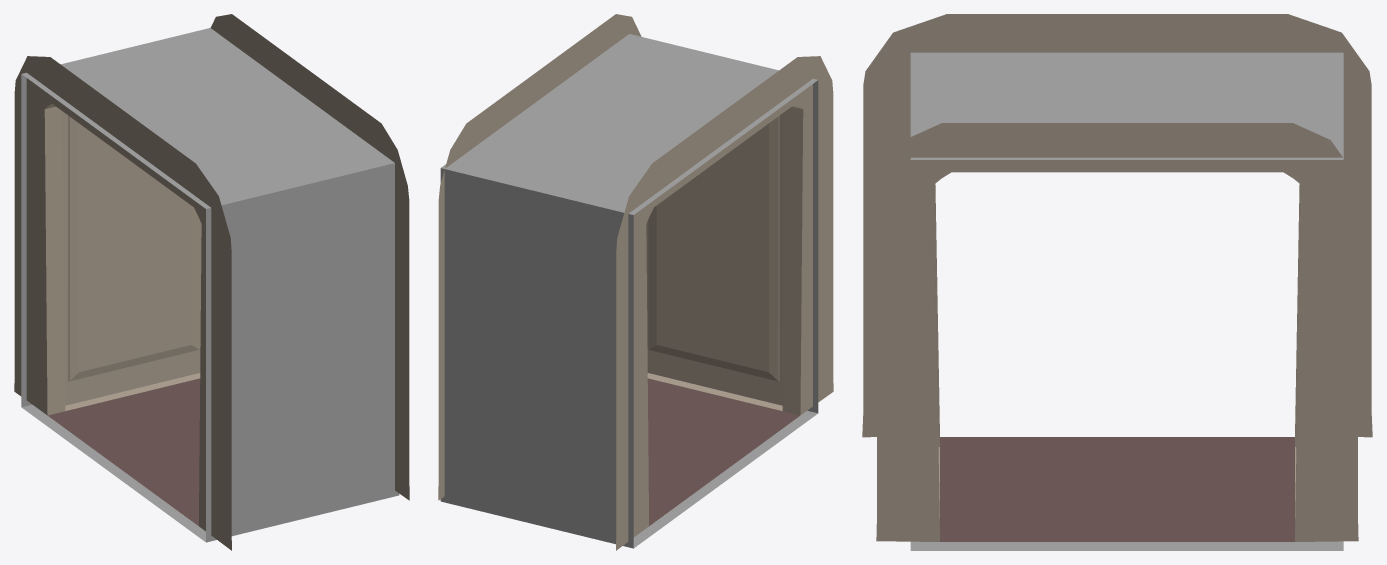
The model's file is Corridor_End_Section_Mesh.fbx.
3 renders of one model, left to right at view 1: azimuth 30°, elevation 25°; view 2: azimuth 150°, elevation 25°; view 3: azimuth 270°, elevation 25°, orthographic. The views are drawn at different scales.
Visible parts, largest first — view 1: Corridor_End_Section_Mesh; view 2: Corridor_End_Section_Mesh; view 3: Corridor_End_Section_Mesh.
Boxes of the visible parts, bbox=[...] form: Corridor_End_Section_Mesh: bbox=[14, 14, 409, 550]; Corridor_End_Section_Mesh: bbox=[438, 14, 833, 550]; Corridor_End_Section_Mesh: bbox=[862, 14, 1372, 550].
Bounding box in the file's own units: 158 × 286 × 308.
